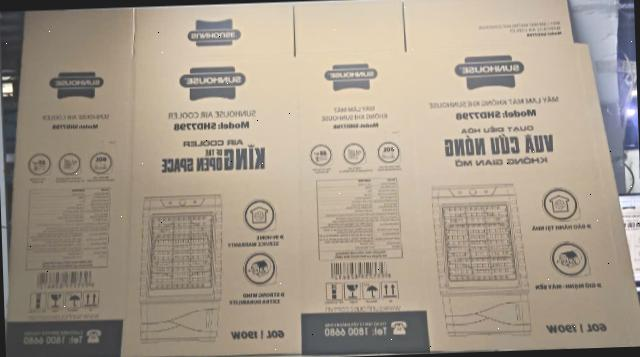box: (6, 0, 640, 357)
